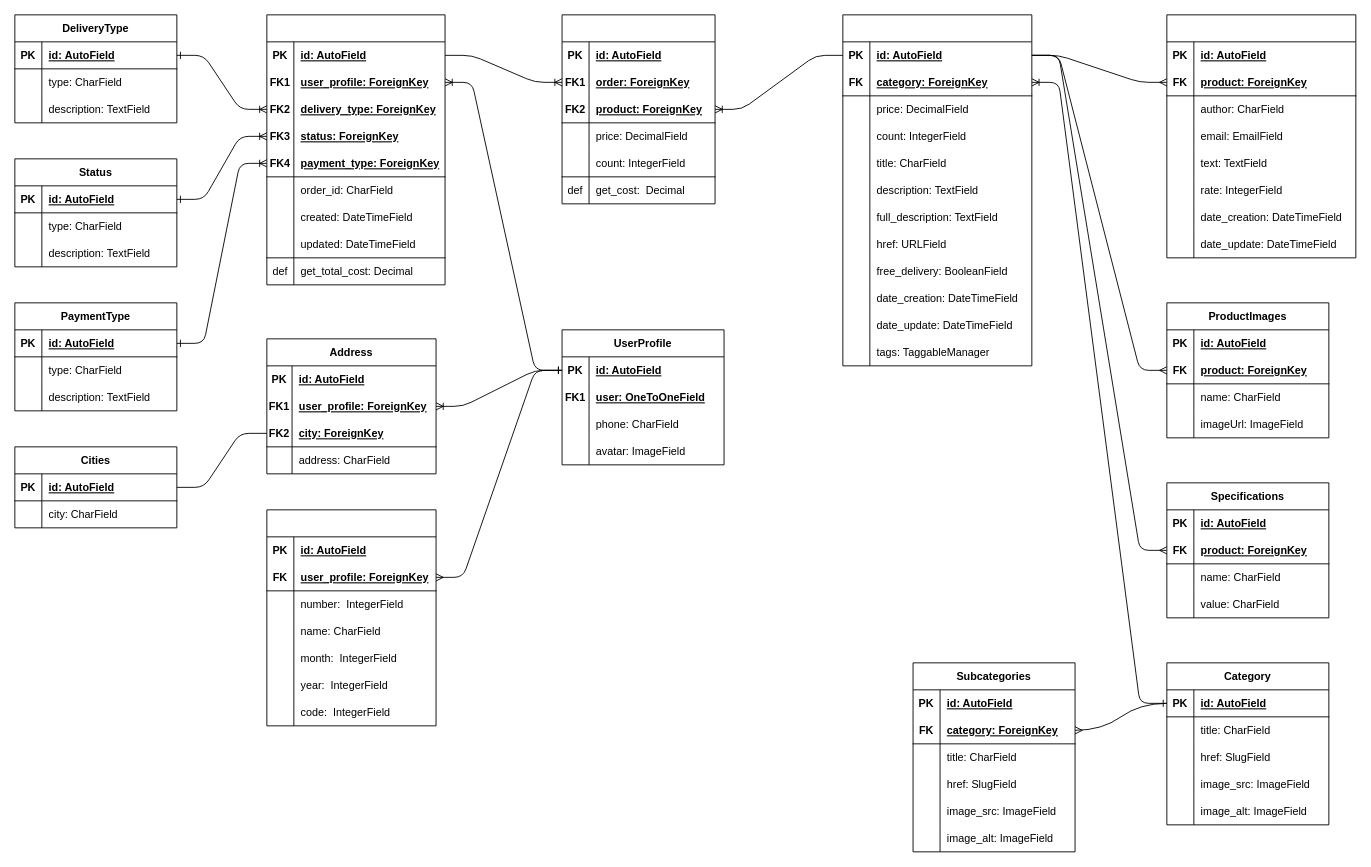
Image size: 1371x867. Some labels were removed from this diagram. The shapes that lost their labels are listed below. From the top down, each one's box as (x1, y1, x2, y2) in pixels, then its label:
(561, 14, 715, 204): ProductInOrder
(266, 14, 445, 285): Orders
(1166, 14, 1356, 258): Reviews
(842, 14, 1032, 366): Products
(266, 509, 436, 726): Payments
